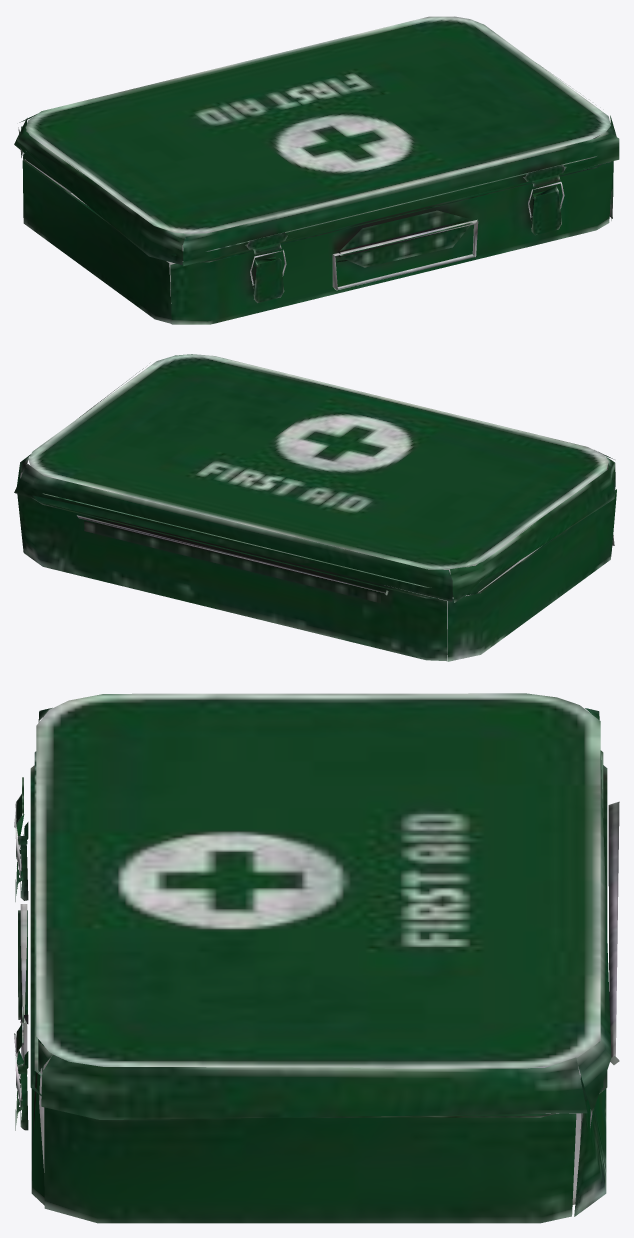
The model's file is medical_box.glb.
3 renders of one model, top to bottom at view 1: azimuth 30°, elevation 25°; view 2: azimuth 150°, elevation 25°; view 3: azimuth 270°, elevation 25°, orthographic. The views are drawn at different scales.
Parts seen in each view (by area): view 1: medical_box; view 2: medical_box; view 3: medical_box.
Boxes of the visible parts, <box> form: medical_box: <box>14,16,619,324</box>; medical_box: <box>14,354,616,661</box>; medical_box: <box>14,693,619,1223</box>.
Bounding box in the file's own units: 0.5248 × 0.0992 × 0.3475.
1 material, 1 textured.
